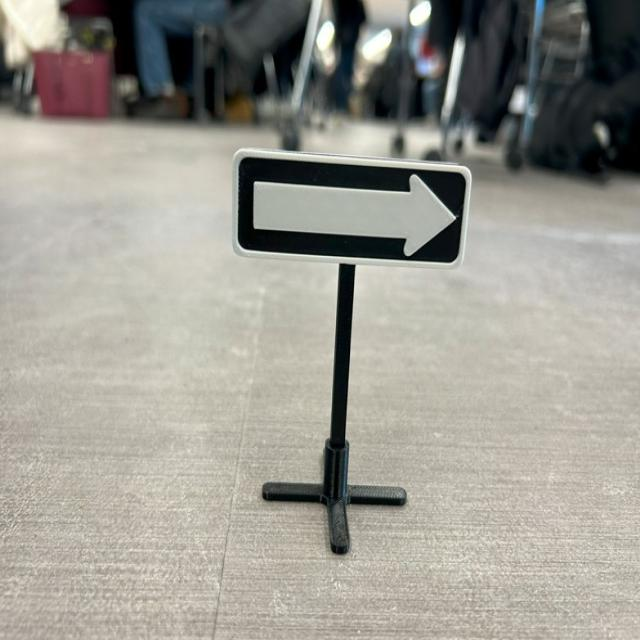sign_oneway_right: (228, 141, 478, 282)
